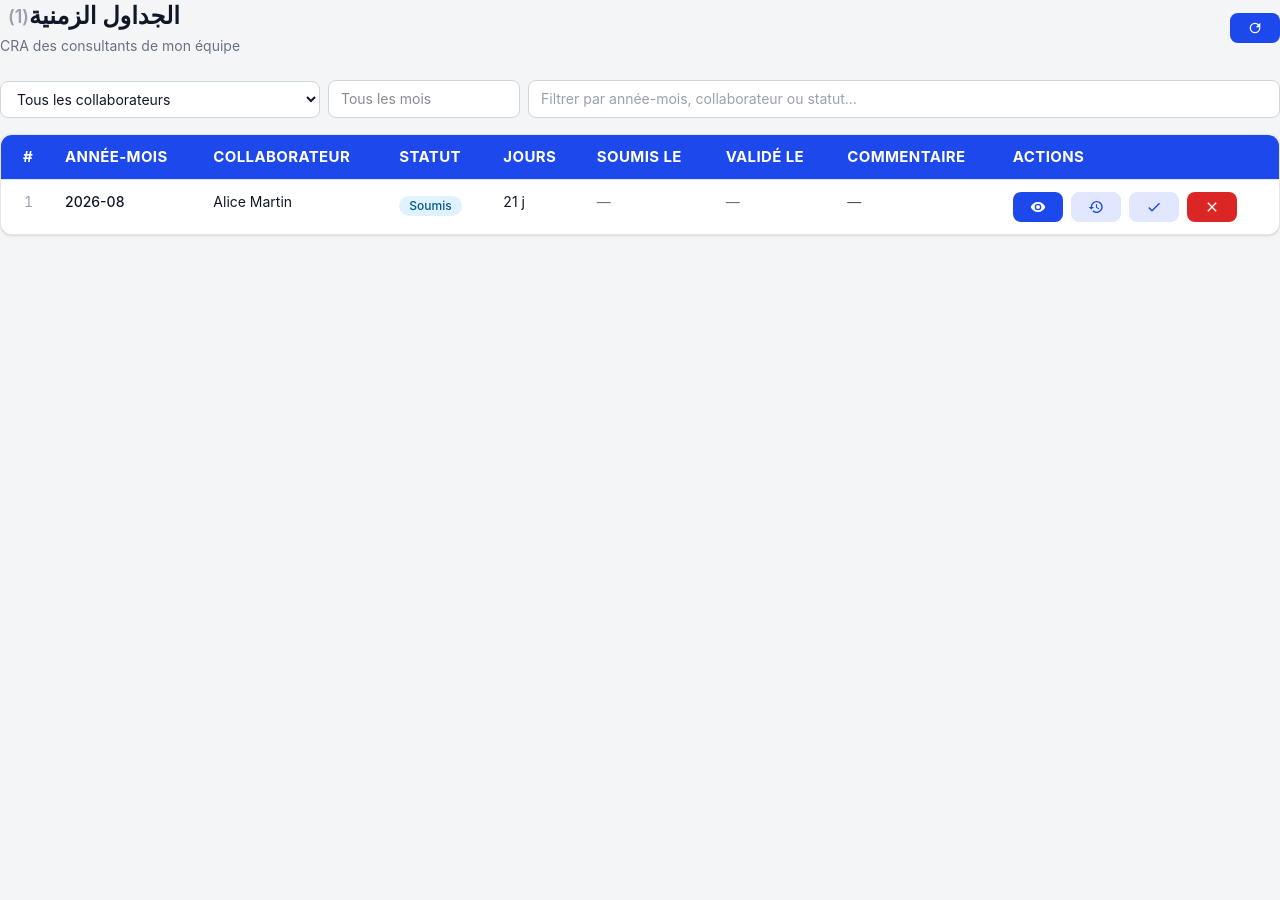
Test: CraList › ouvre le détail du CRA dans une popup au clic sur la ligne
expect the text "Alice Martin" is shown: met, box [197,180,383,234]
Click the row with id "CraList" at (83, 201), box [1,180,1279,234]
(page scrolled)
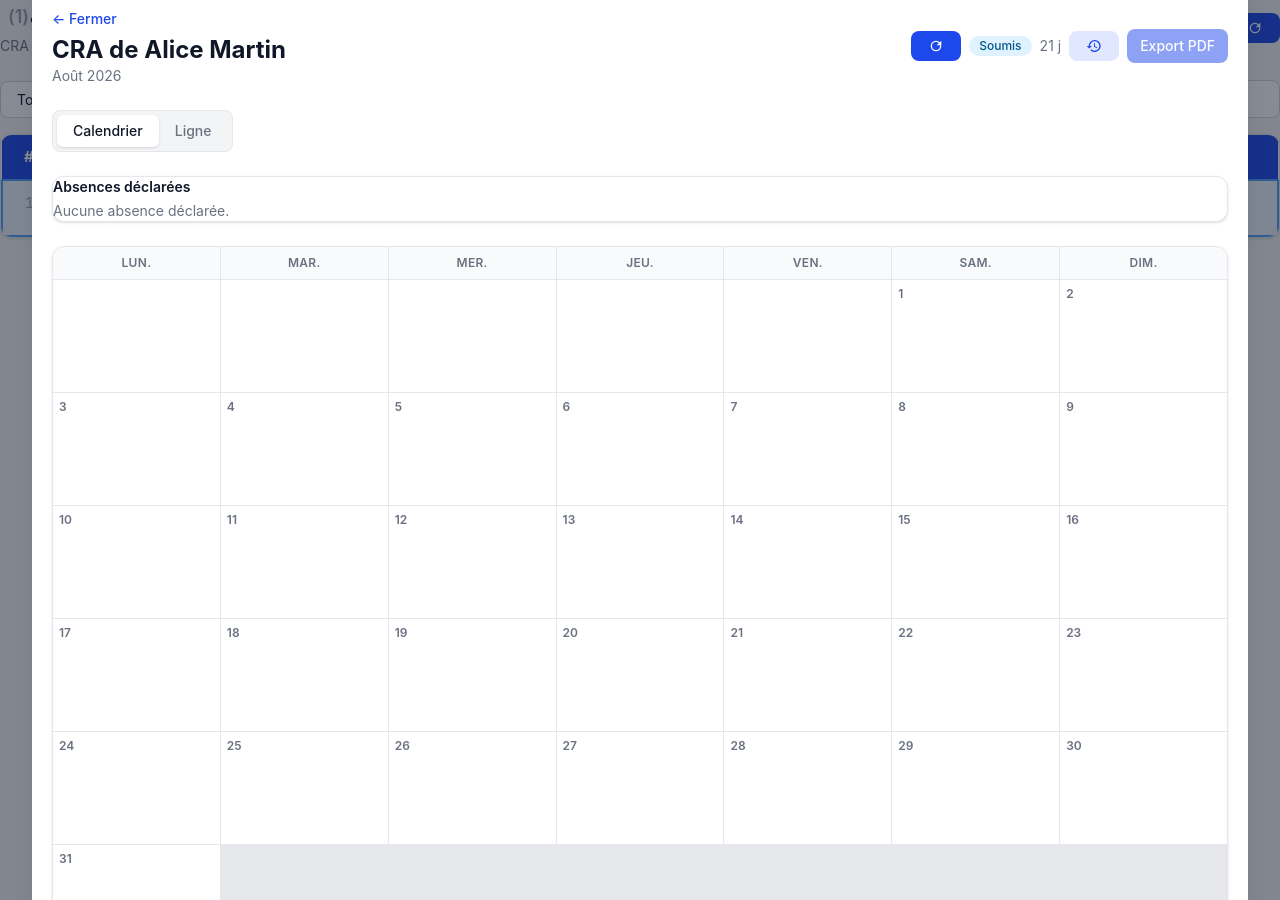
expect the dialog is shown: met
